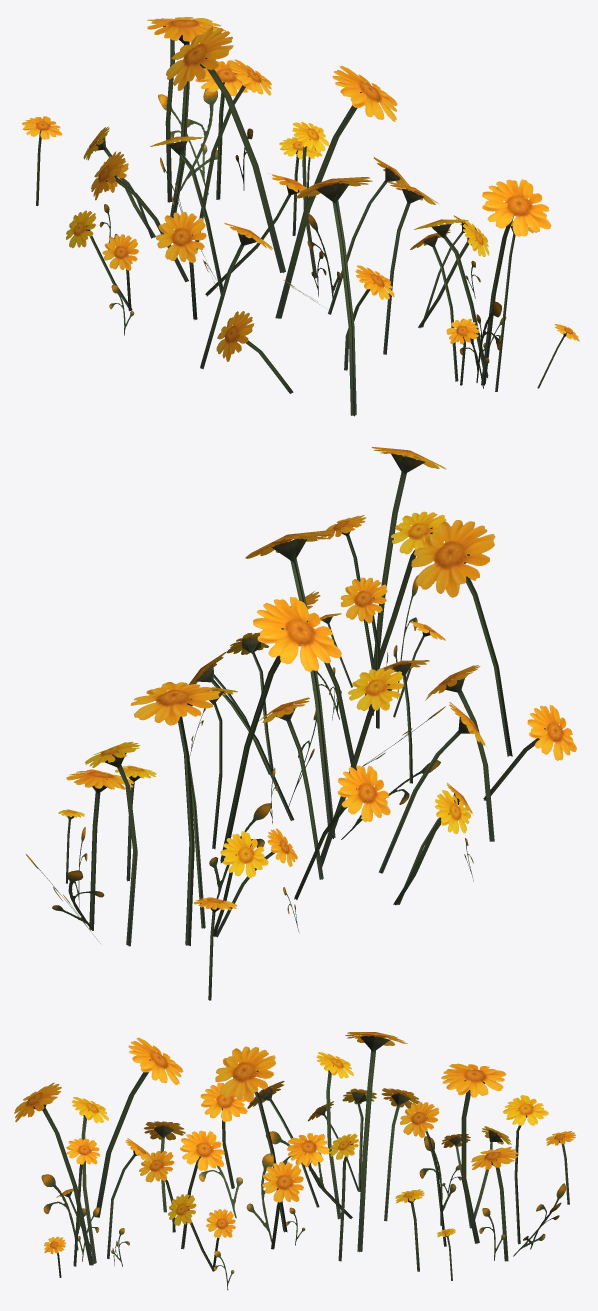
The model's file is scene_lawennushandao_zhiwu06.FBX.
The picture shows the model from 3 angles, top to bottom: view 1: azimuth 30°, elevation 25°; view 2: azimuth 150°, elevation 25°; view 3: azimuth 270°, elevation 25°; orthographic projection. The views are drawn at different scales.
Parts seen in each view (by area): view 1: scene_lawennushandao_zhiwu06; view 2: scene_lawennushandao_zhiwu06; view 3: scene_lawennushandao_zhiwu06.
Part boxes in pixels (box(x1,y1,x2,y2)): scene_lawennushandao_zhiwu06: box(22, 17, 579, 416); scene_lawennushandao_zhiwu06: box(26, 447, 576, 1000); scene_lawennushandao_zhiwu06: box(14, 1032, 575, 1290).
Bounding box in the file's own units: 176 × 130 × 322.
